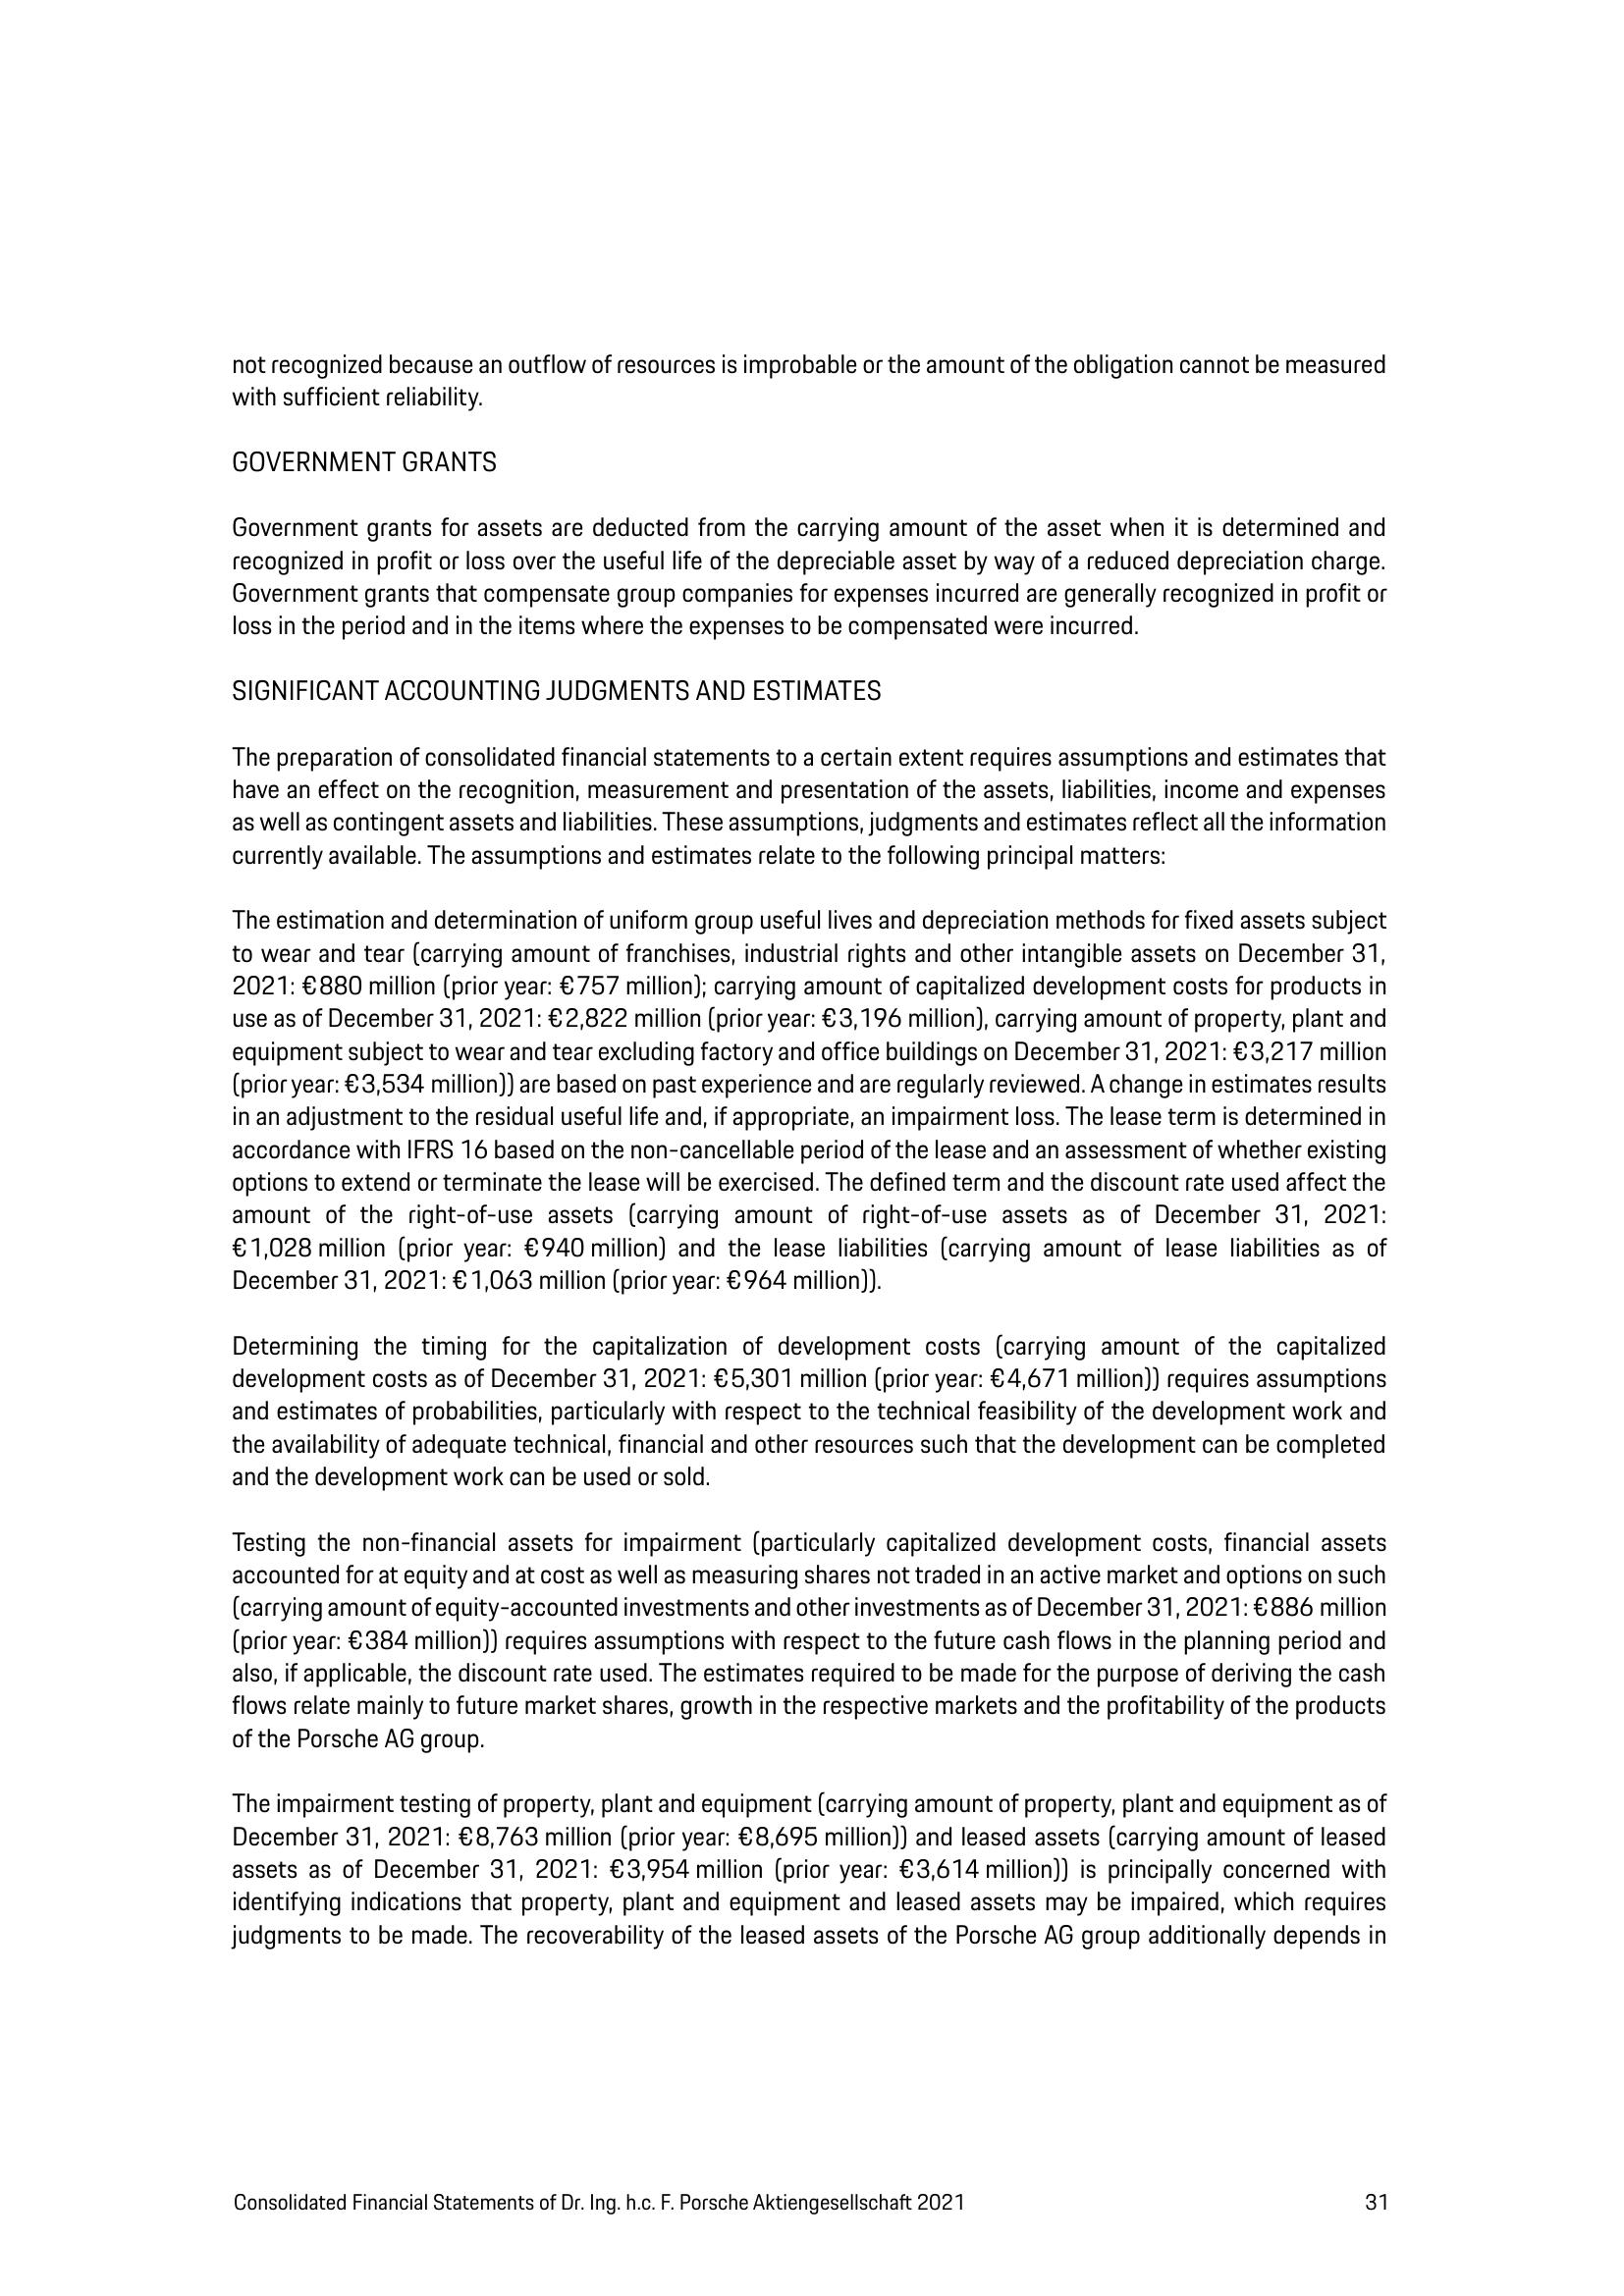Footer: (0, 2122, 1624, 2296)
Header: (0, 0, 1624, 232)
